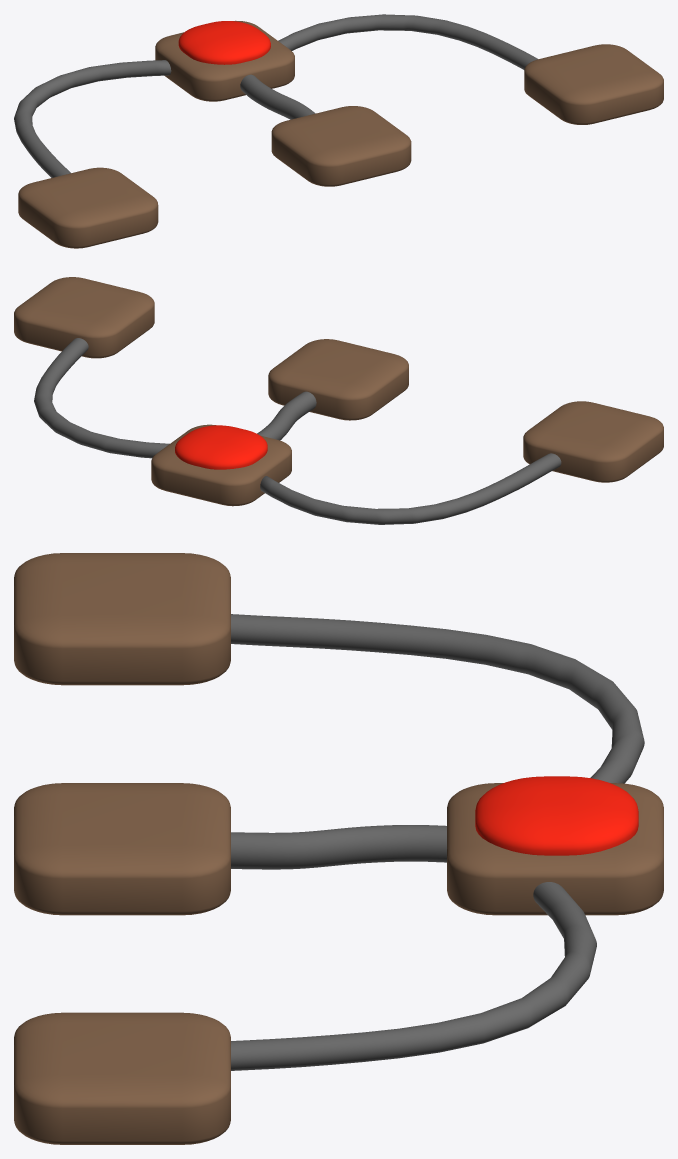
File: button.fbx
3 renders of one model, top to bottom at view 1: azimuth 30°, elevation 25°; view 2: azimuth 150°, elevation 25°; view 3: azimuth 270°, elevation 25°, orthographic. The views are drawn at different scales.
Parts seen in each view (by area): view 1: Plattfoorm r, Plattfoorm Mid, Plattfoorm l, Plattfoorm Button, Cable l, Cable r, Button, mid cable; view 2: Plattfoorm l, Plattfoorm r, Plattfoorm Mid, Plattfoorm Button, Cable r, Cable l, Button, mid cable; view 3: Plattfoorm r, Plattfoorm l, Plattfoorm Mid, Plattfoorm Button, Cable r, Cable l, Button, mid cable.
Part boxes in pixels (x1,y1,x2,y2): Plattfoorm r: [18, 167, 158, 248]; Plattfoorm Mid: [271, 106, 411, 186]; Plattfoorm l: [524, 44, 663, 124]; Plattfoorm Button: [155, 20, 294, 101]; Cable l: [278, 14, 538, 69]; Cable r: [14, 60, 171, 177]; Button: [178, 21, 270, 64]; mid cable: [240, 74, 315, 119]; Plattfoorm l: [14, 277, 154, 358]; Plattfoorm r: [523, 401, 663, 482]; Plattfoorm Mid: [268, 339, 408, 420]; Plattfoorm Button: [151, 424, 291, 506]; Cable r: [260, 453, 561, 524]; Cable l: [34, 338, 169, 458]; Button: [175, 425, 267, 469]; mid cable: [257, 391, 316, 440]; Plattfoorm r: [14, 553, 230, 685]; Plattfoorm l: [14, 1012, 230, 1144]; Plattfoorm Mid: [14, 783, 230, 915]; Plattfoorm Button: [447, 783, 663, 915]; Cable r: [231, 614, 644, 783]; Cable l: [231, 882, 596, 1070]; Button: [475, 776, 638, 855]; mid cable: [231, 825, 446, 869].
Size of the model in its own units: 601 by 41.28 by 300.
